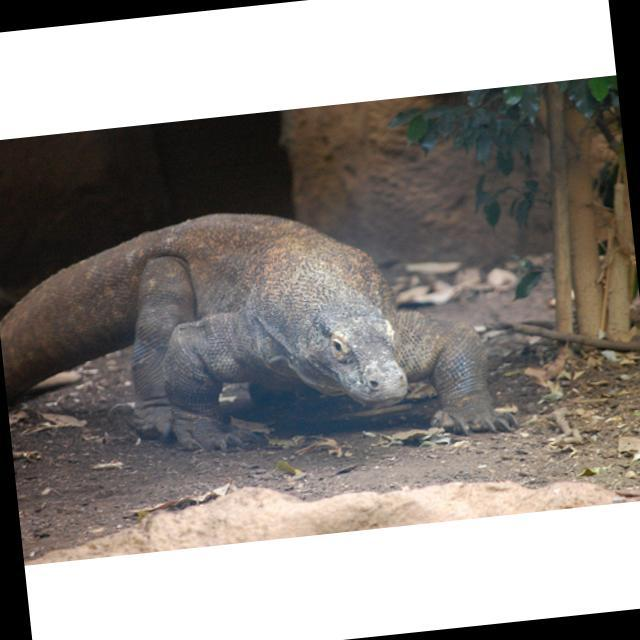KomodoDragon: (0, 183, 522, 482)
